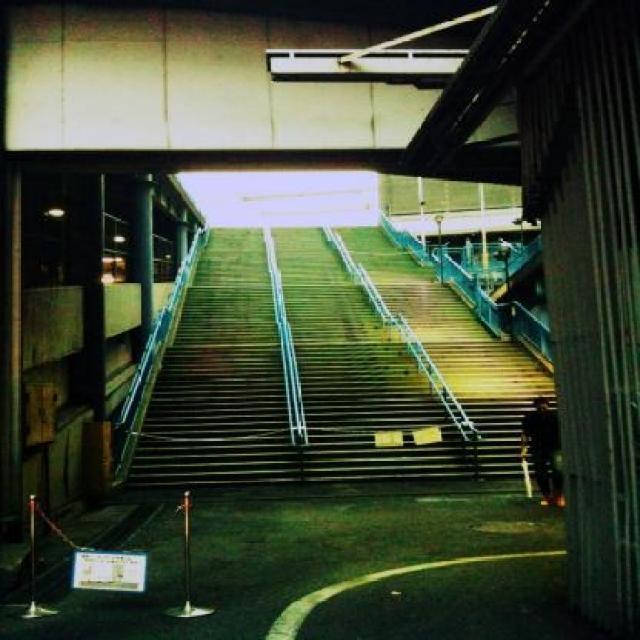stair: (112, 223, 560, 494)
